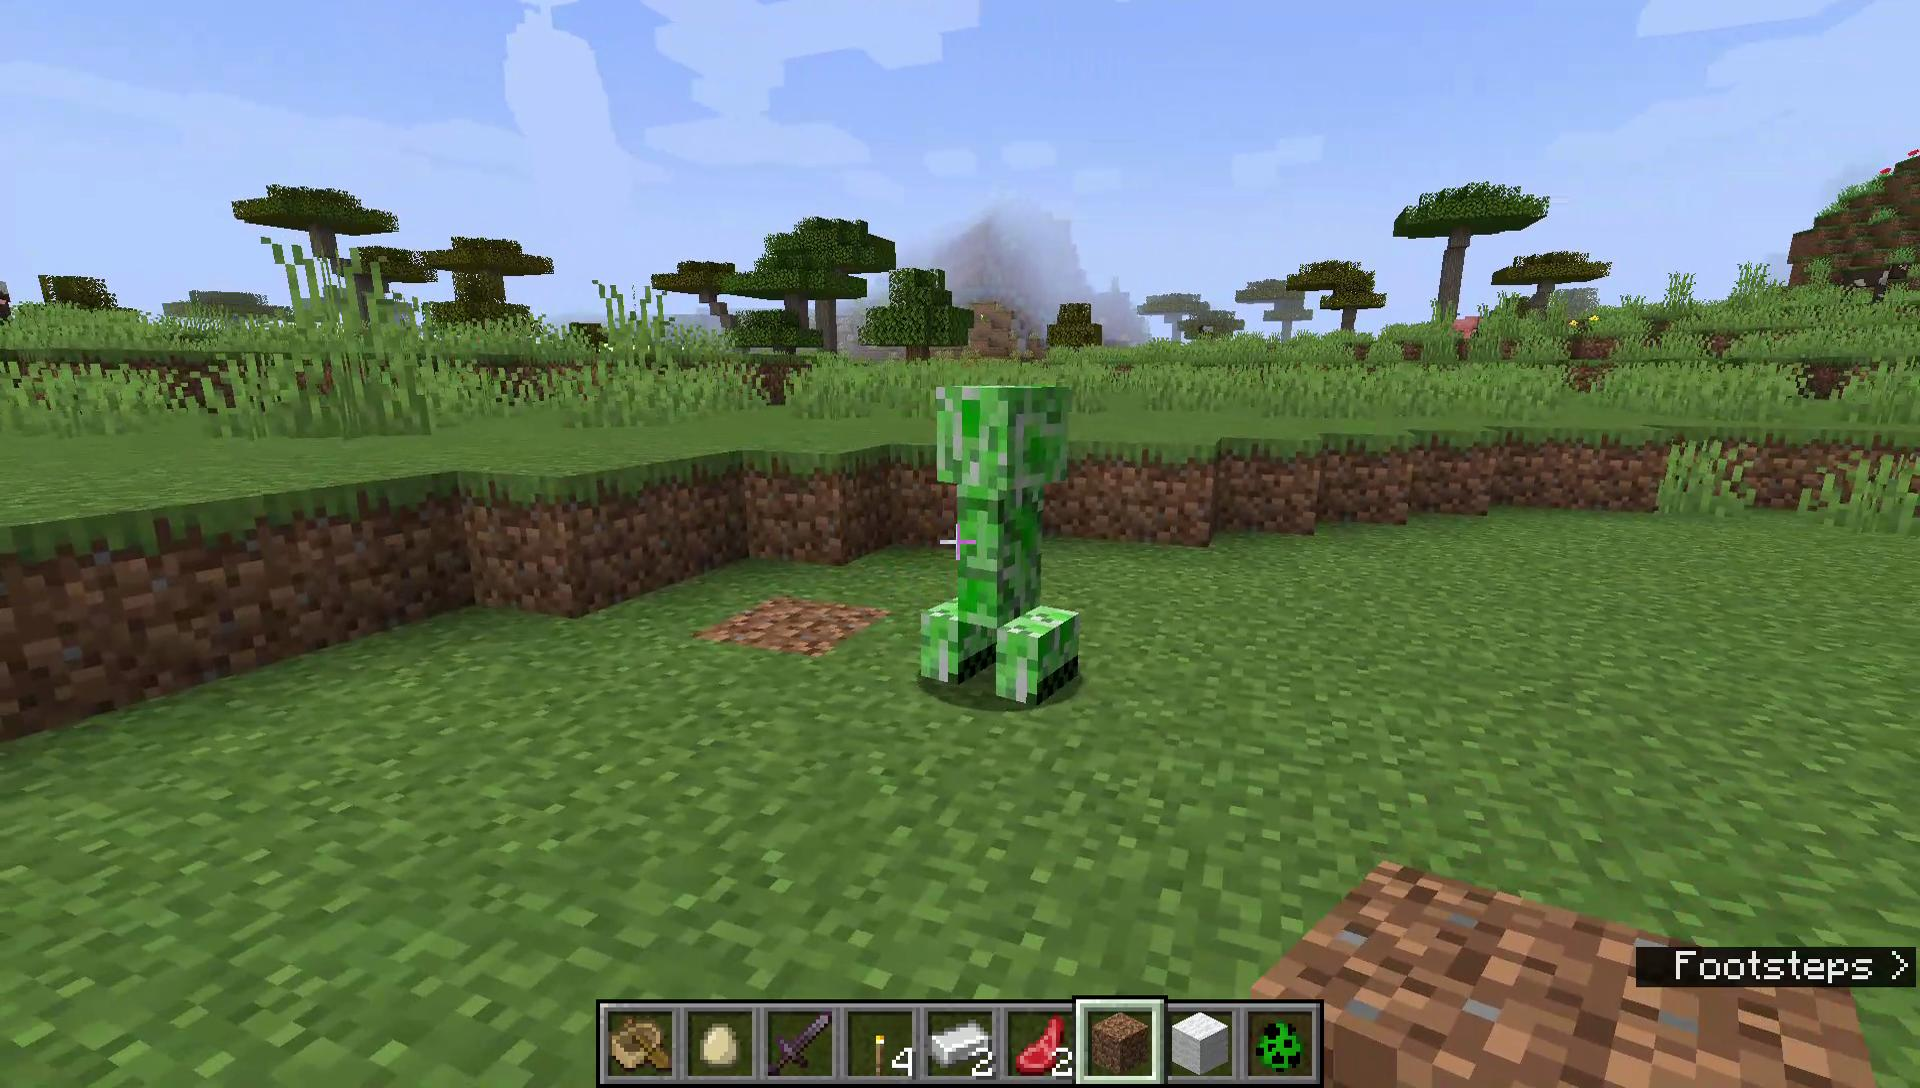cow: (1836, 260, 1912, 307)
creeper: (915, 376, 1091, 713)
pig: (1453, 314, 1480, 344)
